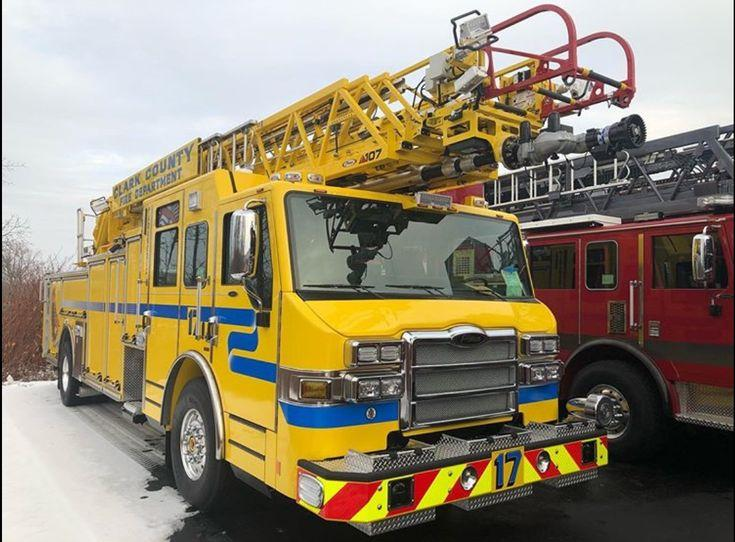firetruck_off: (42, 0, 648, 542)
